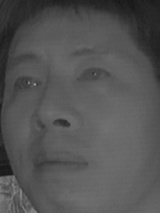eye: (76, 65, 115, 86), (11, 72, 45, 95)
mouth: (31, 145, 91, 182)
